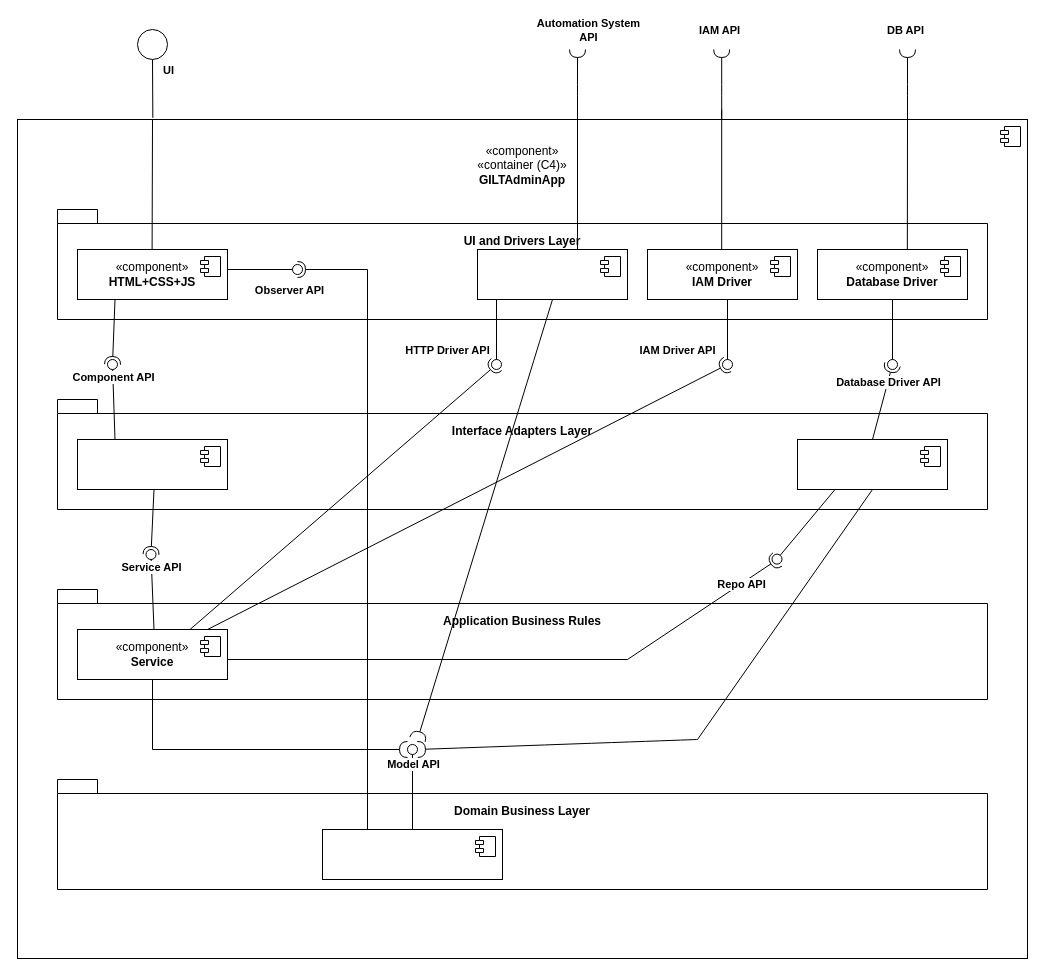
This 1045x976 diagram has some shape labels left out. Each missing label, with the centre of its shape:
«component» Component: point (152, 464)
«component» HTTP Driver: point (552, 274)
«component» Models: point (412, 854)
«component» Repository: point (872, 464)
